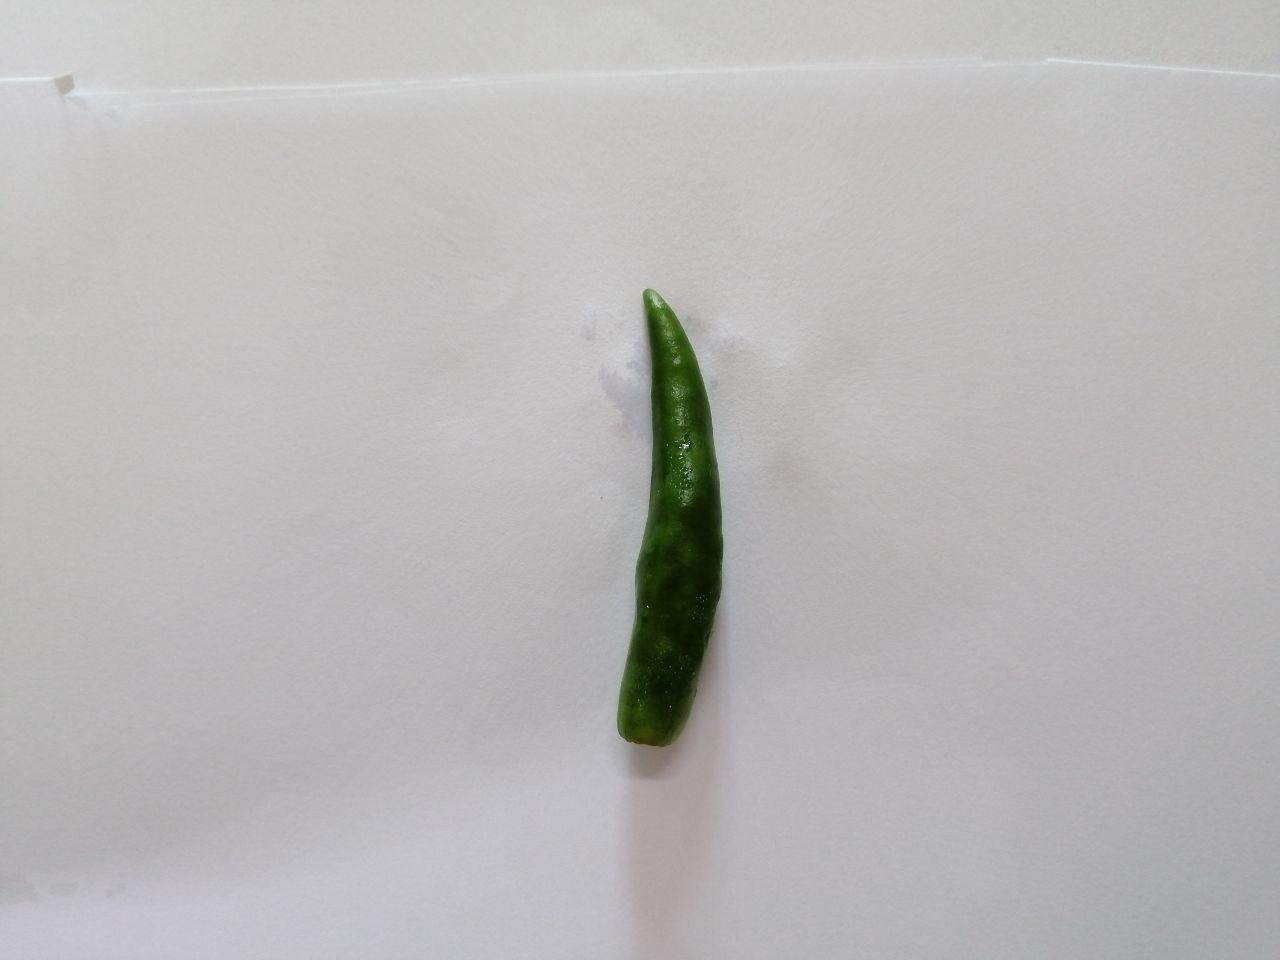lada hijau: (603, 272, 728, 777)
